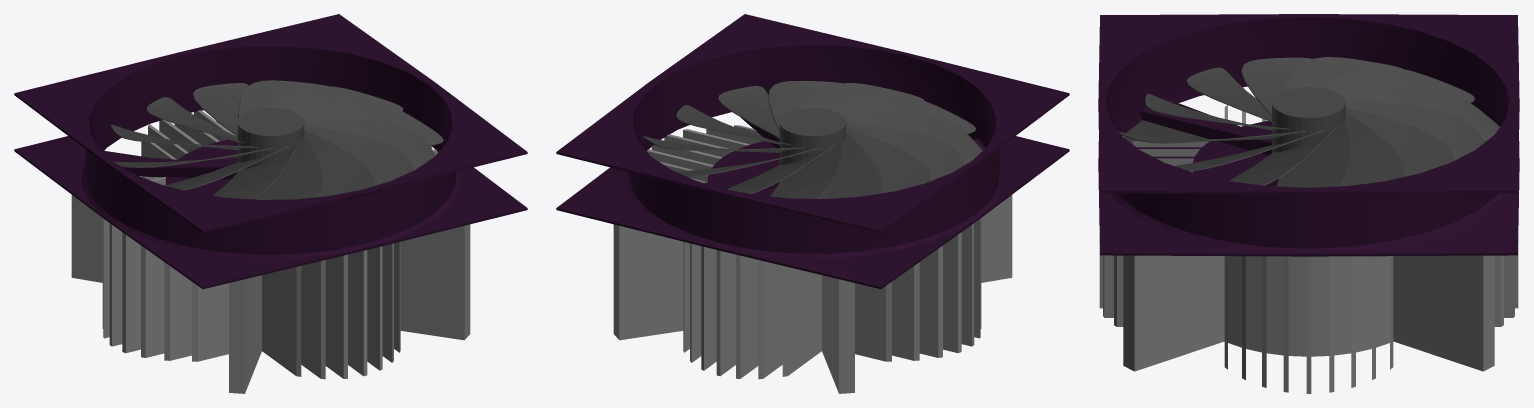
Rendered from Cooler H.fbx.
The picture shows the model from 3 angles, left to right: view 1: azimuth 30°, elevation 25°; view 2: azimuth 150°, elevation 25°; view 3: azimuth 270°, elevation 25°; orthographic projection. The views are drawn at different scales.
Parts seen in each view (by area): view 1: Cylinder.002, Cylinder.001; view 2: Cylinder.002, Cylinder.001; view 3: Cylinder.002, Cylinder.001.
Part boxes in pixels (<box>): Cylinder.002: <box>14,14,527,393</box>; Cylinder.001: <box>110,80,443,199</box>; Cylinder.002: <box>556,14,1069,393</box>; Cylinder.001: <box>642,80,982,198</box>; Cylinder.002: <box>1098,14,1519,393</box>; Cylinder.001: <box>1119,57,1499,187</box>.
Bounding box in the file's own units: 24.39 × 13.65 × 24.39.
